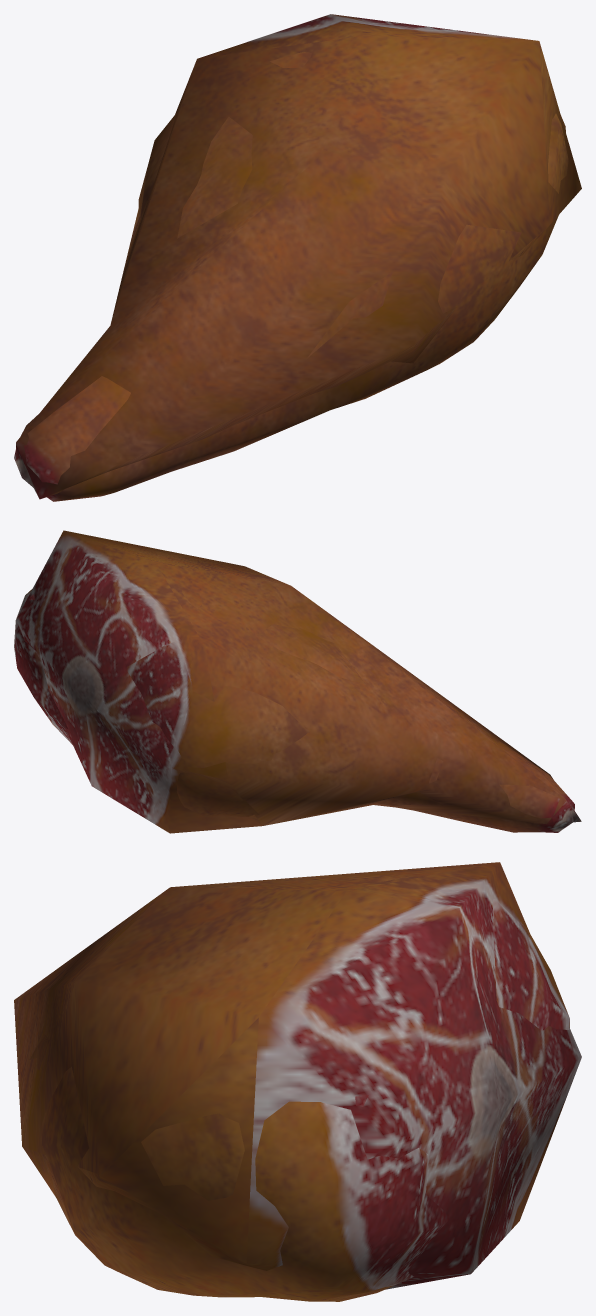
The model's file is CAMP_ham.fbx.
3 renders of one model, top to bottom at view 1: azimuth 30°, elevation 25°; view 2: azimuth 150°, elevation 25°; view 3: azimuth 270°, elevation 25°, orthographic. The views are drawn at different scales.
Visible parts, largest first — view 1: CAMP_ham_COL, CAMP_ham; view 2: CAMP_ham_COL, CAMP_ham; view 3: CAMP_ham_COL, CAMP_ham.
Boxes of the visible parts, x1=… form: CAMP_ham_COL: x1=16, y1=14, x2=581, y2=499; CAMP_ham: x1=14, y1=52, x2=568, y2=501; CAMP_ham_COL: x1=15, y1=530, x2=581, y2=833; CAMP_ham: x1=14, y1=589, x2=574, y2=832; CAMP_ham_COL: x1=14, y1=862, x2=581, y2=1289; CAMP_ham: x1=29, y1=875, x2=569, y2=1301.
Bounding box in the file's own units: 32.03 × 15.3 × 18.14.
